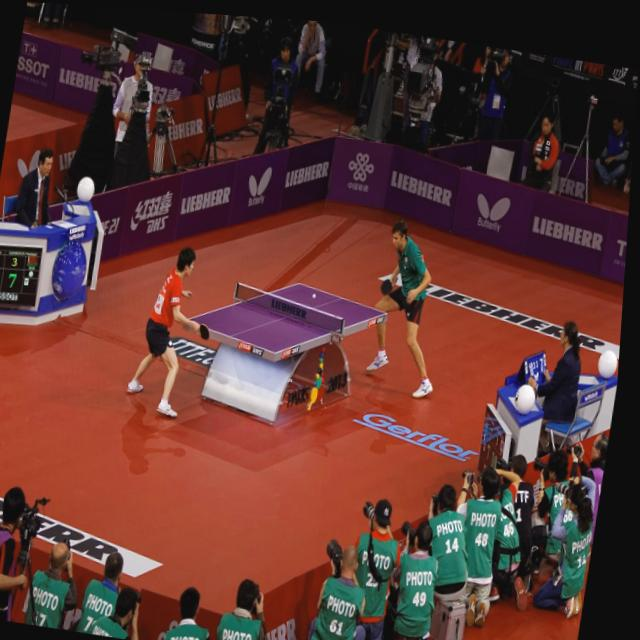TT Net: (231, 280, 346, 338)
TT Racket: (376, 276, 395, 298), (196, 320, 212, 342)
TT Table: (184, 282, 387, 353)
